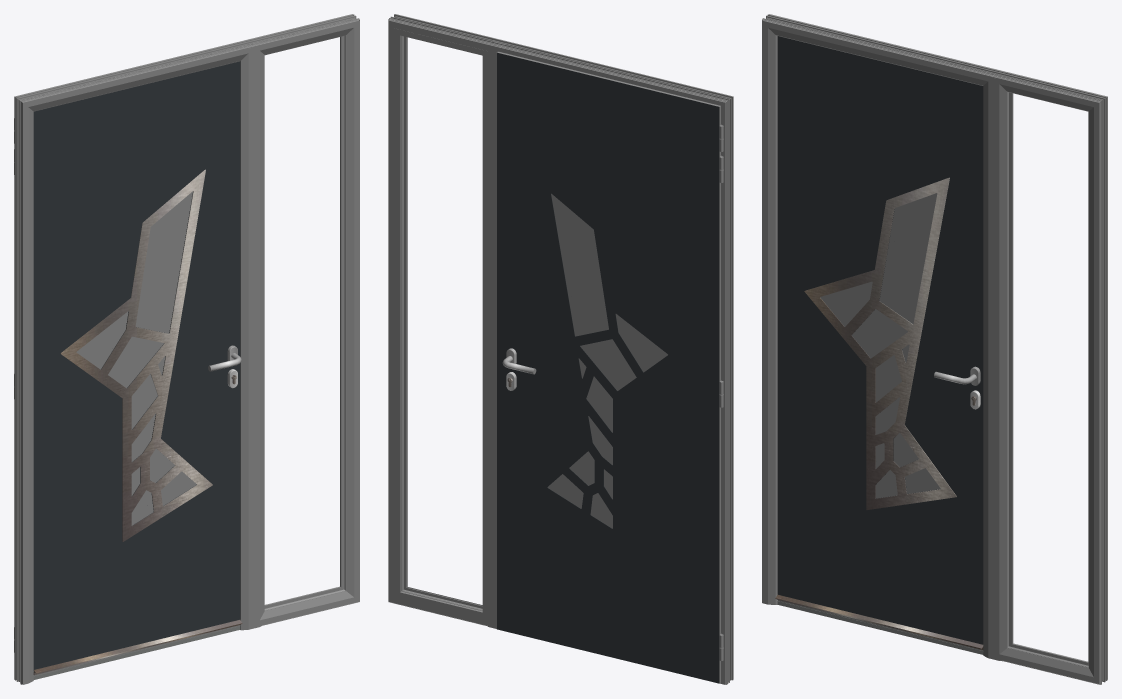
3 views of the same model, side by side, from view 1: azimuth 30°, elevation 25°; view 2: azimuth 150°, elevation 25°; view 3: azimuth 330°, elevation 25° (orthographic).
Visible parts, largest first — view 1: bloco_094, Rectangle002, Line004, alunox_057, Vidro Porta, Object, Object001, Line005, Rectangle005, Rectangle003; view 2: bloco_094, Rectangle002, Vidro Porta, Rectangle003, Line004, Object001, Rectangle004, Object; view 3: bloco_094, Rectangle002, Line004, alunox_057, Vidro Porta, Object001, Object, Line005, Rectangle003, Rectangle005.
Boxes of the visible parts, x1=… form: bloco_094: x1=33, y1=61, x2=240, y2=671; Rectangle002: x1=14, y1=14, x2=359, y2=684; Line004: x1=240, y1=46, x2=264, y2=630; alunox_057: x1=60, y1=169, x2=212, y2=541; Vidro Porta: x1=76, y1=191, x2=196, y2=525; Object: x1=33, y1=35, x2=346, y2=680; Object001: x1=264, y1=36, x2=344, y2=608; Line005: x1=33, y1=620, x2=242, y2=674; Rectangle005: x1=33, y1=625, x2=240, y2=679; Rectangle003: x1=264, y1=37, x2=340, y2=605; bloco_094: x1=497, y1=52, x2=719, y2=683; Rectangle002: x1=388, y1=14, x2=733, y2=684; Vidro Porta: x1=547, y1=193, x2=667, y2=528; Rectangle003: x1=394, y1=28, x2=487, y2=619; Line004: x1=488, y1=41, x2=504, y2=628; Object001: x1=401, y1=36, x2=482, y2=610; Rectangle004: x1=496, y1=51, x2=720, y2=683; Object: x1=404, y1=36, x2=482, y2=608; bloco_094: x1=777, y1=36, x2=983, y2=644; Rectangle002: x1=762, y1=14, x2=1107, y2=684; Line004: x1=983, y1=77, x2=1007, y2=661; alunox_057: x1=804, y1=177, x2=956, y2=509; Vidro Porta: x1=820, y1=193, x2=940, y2=498; Object001: x1=1007, y1=92, x2=1088, y2=665; Object: x1=776, y1=35, x2=1088, y2=667; Line005: x1=775, y1=595, x2=983, y2=649; Rectangle003: x1=1012, y1=93, x2=1087, y2=662; Rectangle005: x1=777, y1=600, x2=983, y2=654.
Bounding box in the file's own units: 1307 × 2150 × 192.
7 materials, 4 textured.
